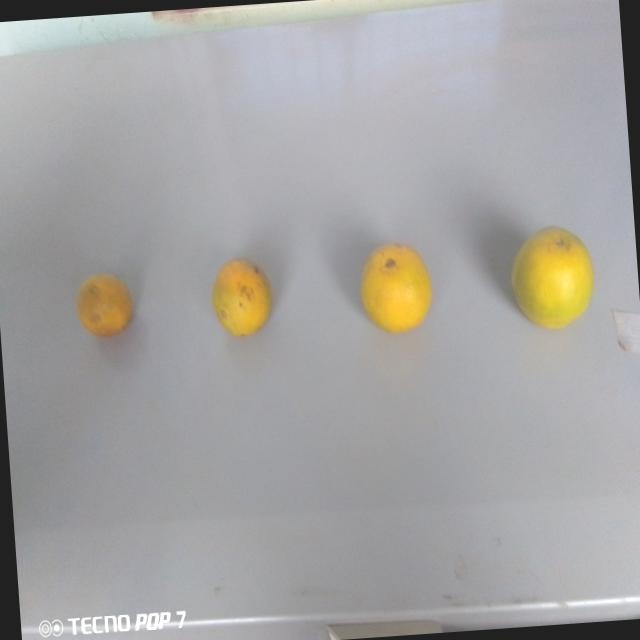agrume: (506, 216, 606, 336), (349, 235, 436, 341), (67, 264, 149, 362), (203, 249, 281, 344)
